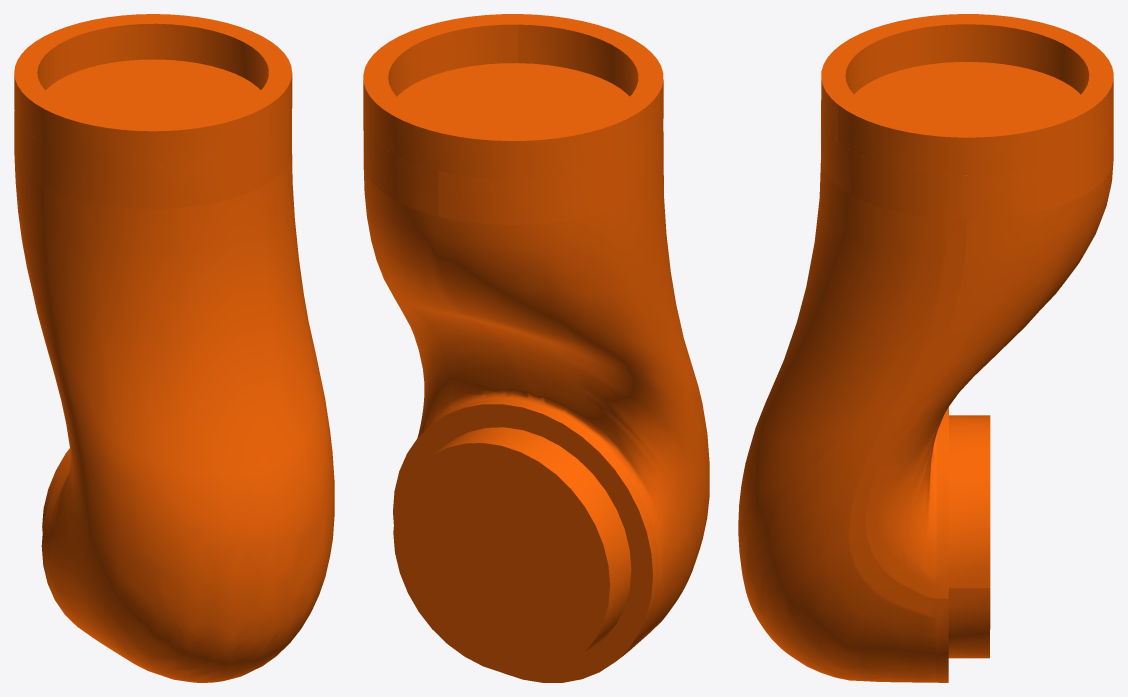
3 views of the same model, side by side, from view 1: azimuth 30°, elevation 25°; view 2: azimuth 150°, elevation 25°; view 3: azimuth 270°, elevation 25° (orthographic). The views are drawn at different scales.
Visible parts, largest first — view 1: Node_0x29352f0; view 2: Node_0x29352f0; view 3: Node_0x29352f0.
Boxes of the visible parts, left/top/right/bottom form: Node_0x29352f0: left=14, top=14, right=334, bottom=682; Node_0x29352f0: left=363, top=14, right=709, bottom=682; Node_0x29352f0: left=738, top=14, right=1113, bottom=682.
Bounding box in the file's own units: 120 × 269 × 154.
